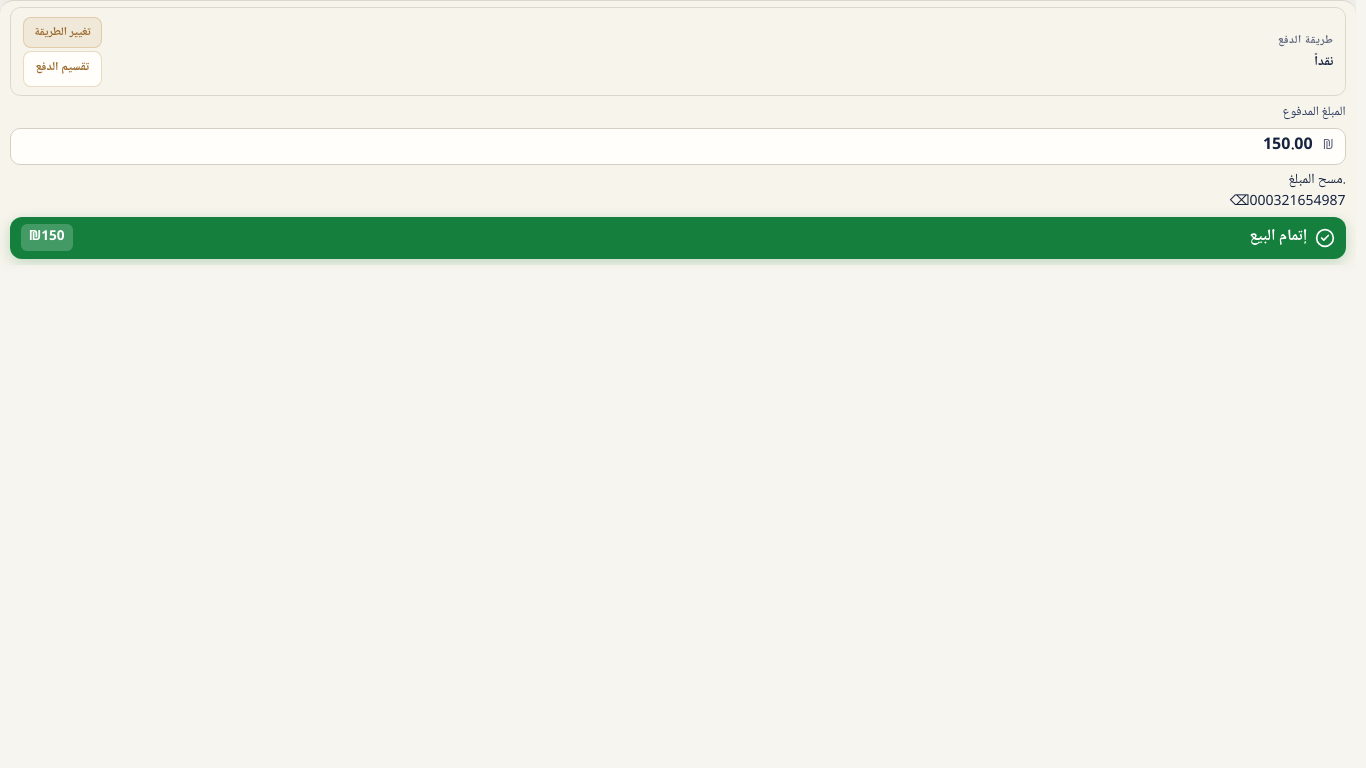
AdvancedPaymentPanel numeric keypad › keeps the keypad out of payment methods that do not use a cash amount field
Expected: the field labelled "المبلغ المدفوع" holds "150.00", left=10, top=128, right=1346, bottom=165
What coordinates should you click on to do the following:
click the button "تغيير الطريقة"
I would click on:
 (62, 33)
Its box is left=23, top=17, right=102, bottom=48.
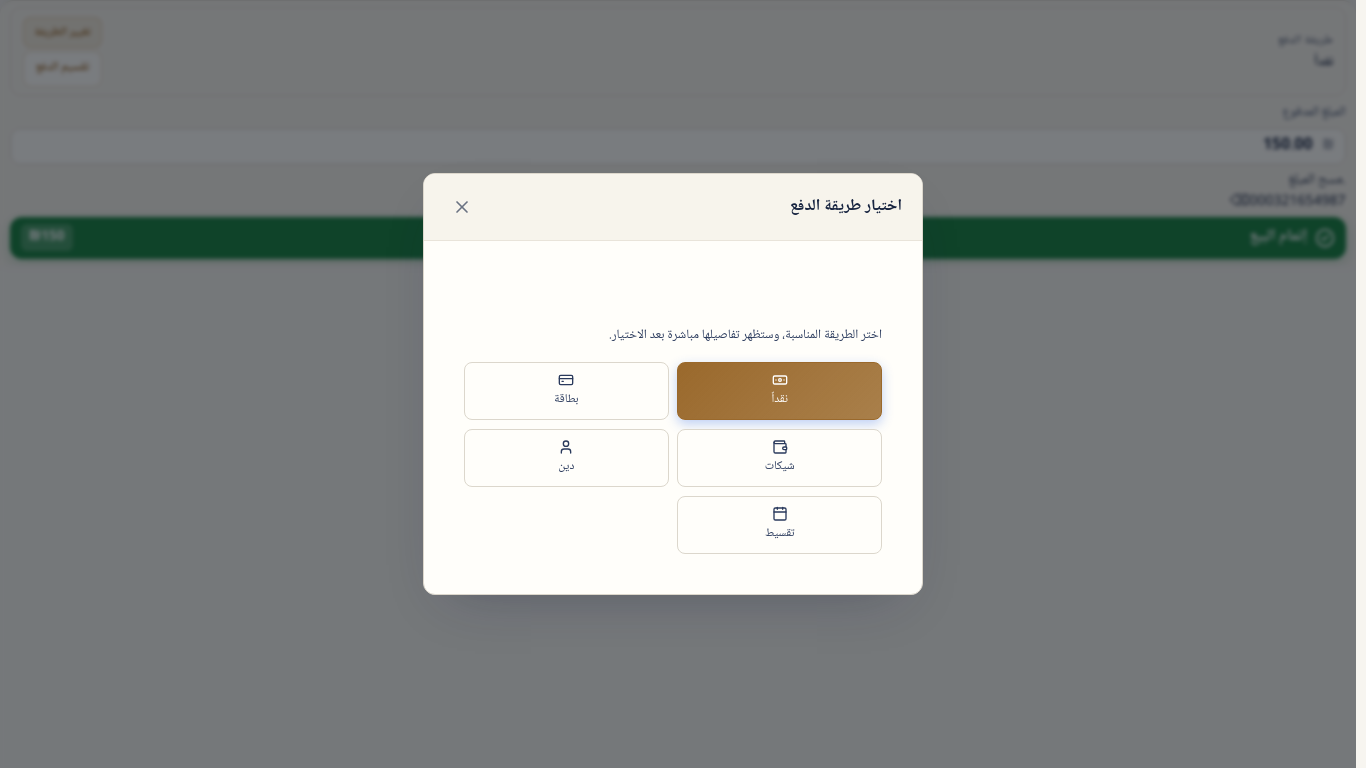
What coordinates should you click on to do the following:
click the button "بطاقة"
I would click on:
 (566, 391)
Its box is left=464, top=362, right=669, bottom=420.
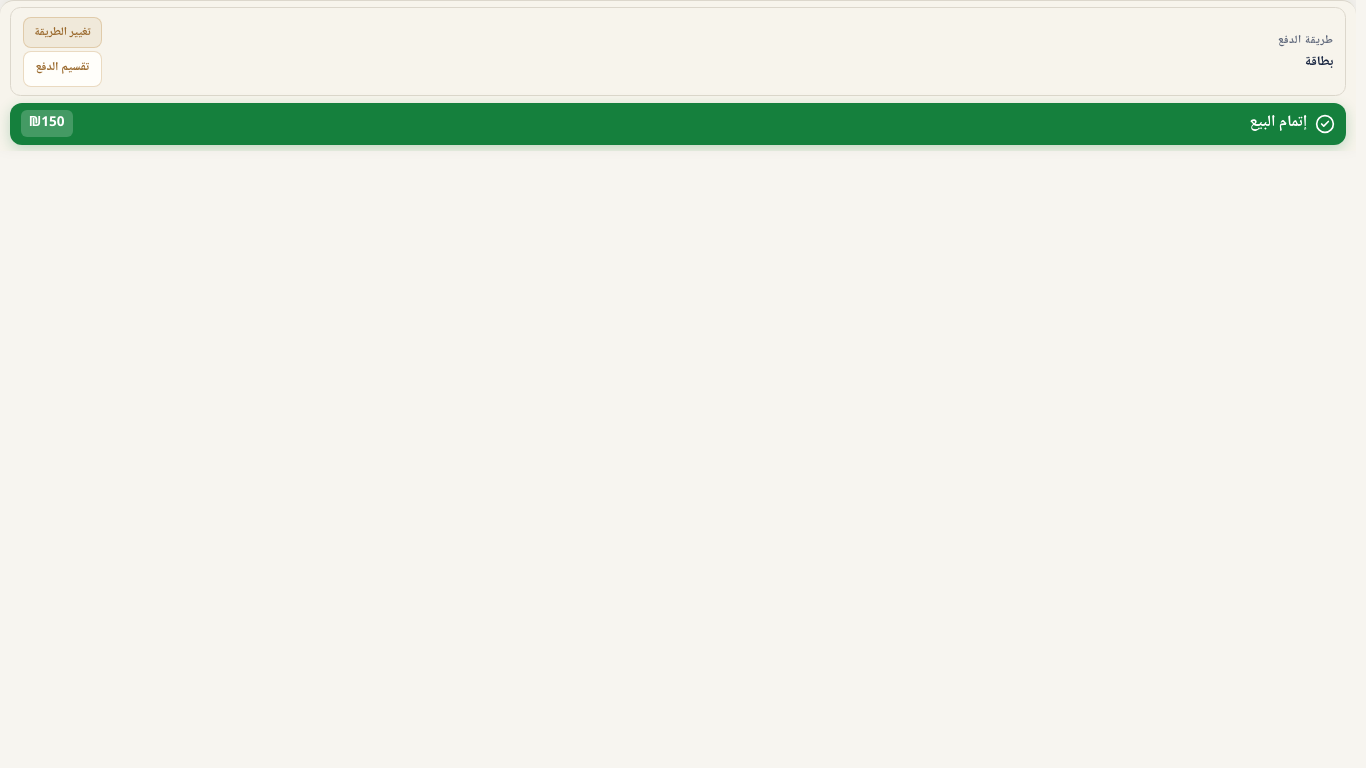
Expected: the label "المبلغ المدفوع" is gone
